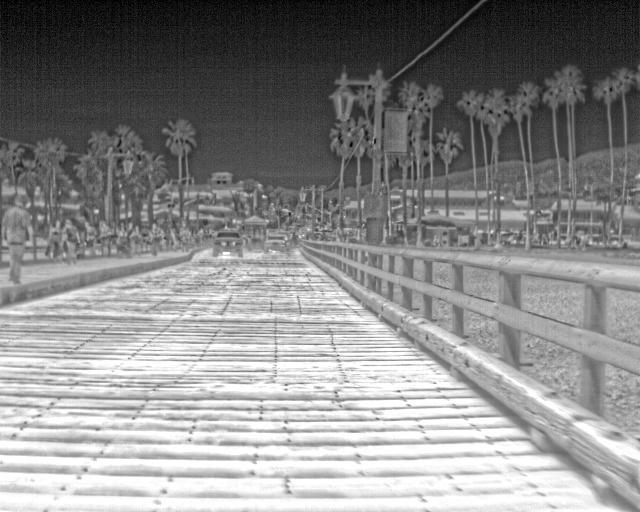bicycle: (210, 229, 245, 256), (262, 229, 286, 253)
empty: (2, 192, 33, 286), (62, 217, 81, 267), (46, 218, 64, 260), (145, 222, 163, 258), (127, 218, 141, 257), (83, 221, 97, 256), (97, 221, 111, 255), (111, 220, 126, 248)
